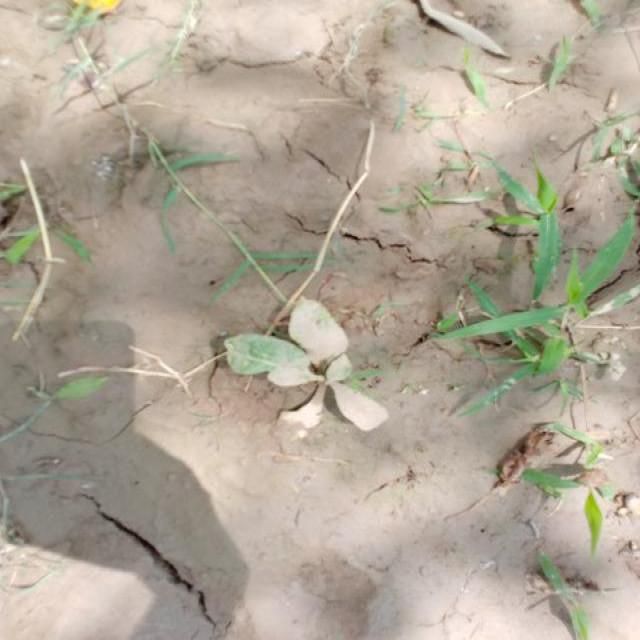crop: (234, 296, 380, 438)
